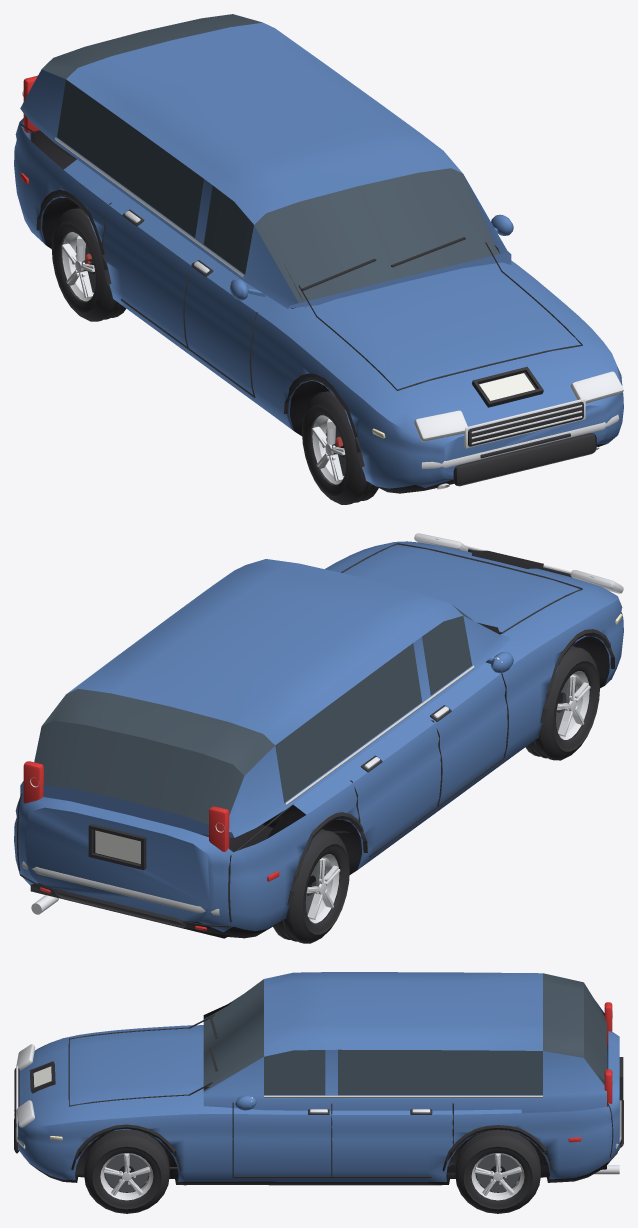
Rendered from CarV2_Wagon.fbx.
3 renders of one model, top to bottom at view 1: azimuth 30°, elevation 25°; view 2: azimuth 150°, elevation 25°; view 3: azimuth 270°, elevation 25°, orthographic. The views are drawn at different scales.
Parts seen in each view (by area): view 1: CarV2_Wagon; view 2: CarV2_Wagon; view 3: CarV2_Wagon.
Part boxes in pixels (x1,y1,x2,y2): CarV2_Wagon: (14,14,623,504); CarV2_Wagon: (14,533,623,943); CarV2_Wagon: (14,972,623,1213).
Size of the model in its own units: 1.86 by 1.46 by 4.77.
